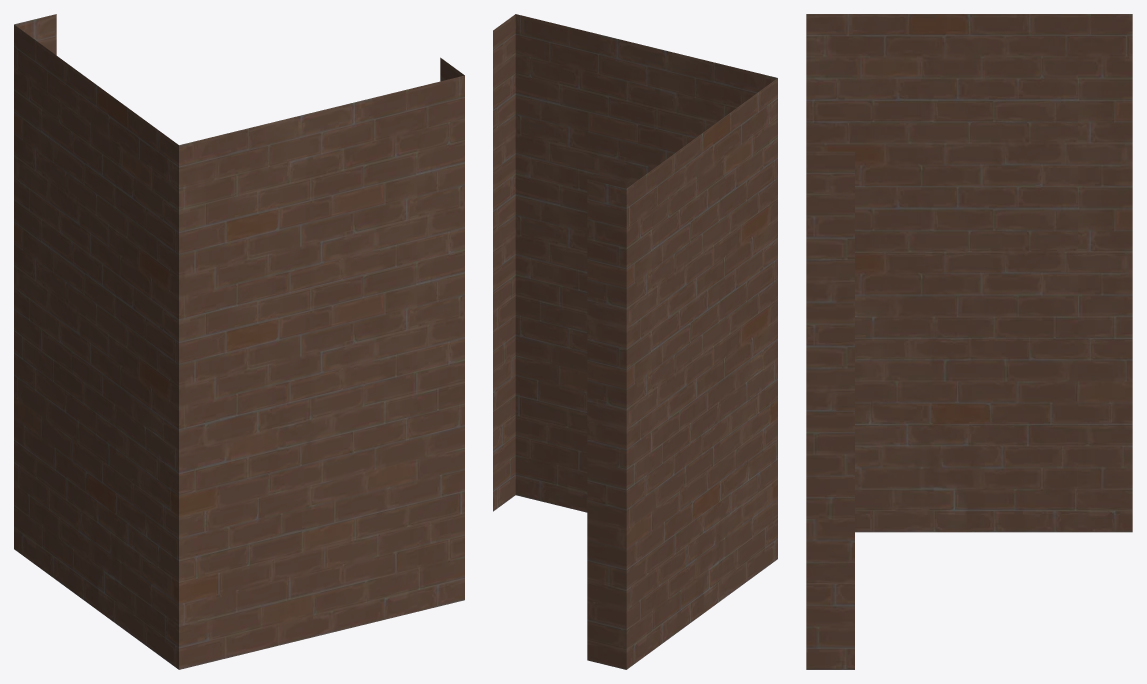
The model's file is Brick_CornerColumn_Center_Half.glb.
The picture shows the model from 3 angles, left to right: view 1: azimuth 30°, elevation 25°; view 2: azimuth 150°, elevation 25°; view 3: azimuth 270°, elevation 25°; orthographic projection. The views are drawn at different scales.
Visible parts, largest first — view 1: Brick_CornerColumn_Center_Half; view 2: Brick_CornerColumn_Center_Half; view 3: Brick_CornerColumn_Center_Half.
Boxes of the visible parts, x1=… form: Brick_CornerColumn_Center_Half: x1=14, y1=14, x2=464, y2=669; Brick_CornerColumn_Center_Half: x1=493, y1=14, x2=777, y2=669; Brick_CornerColumn_Center_Half: x1=806, y1=14, x2=1132, y2=669.
Size of the model in its own units: 1.14 by 2 by 1.14.
1 material, 1 textured.
